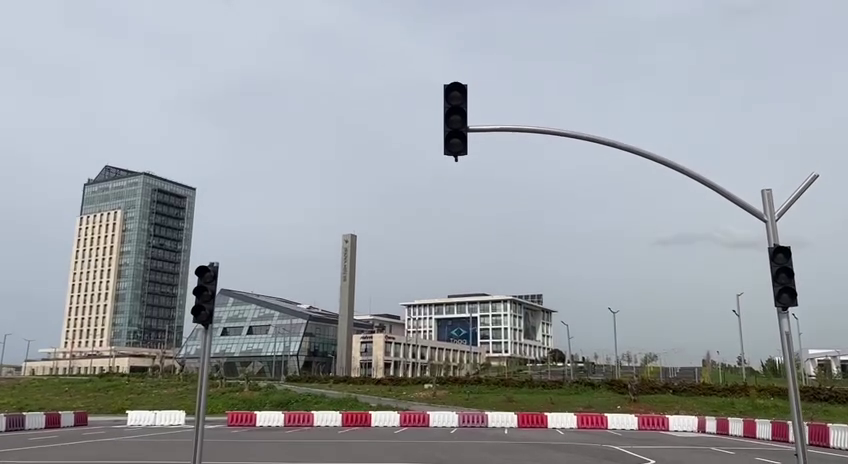trafficLight: (438, 77, 474, 165), (765, 241, 802, 311), (188, 259, 221, 328)
